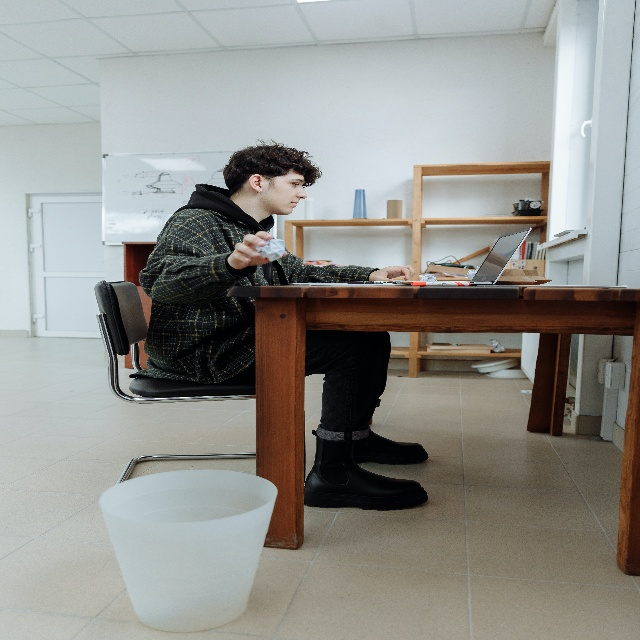Sin_guantes: (231, 231, 287, 265), (372, 265, 414, 281)
